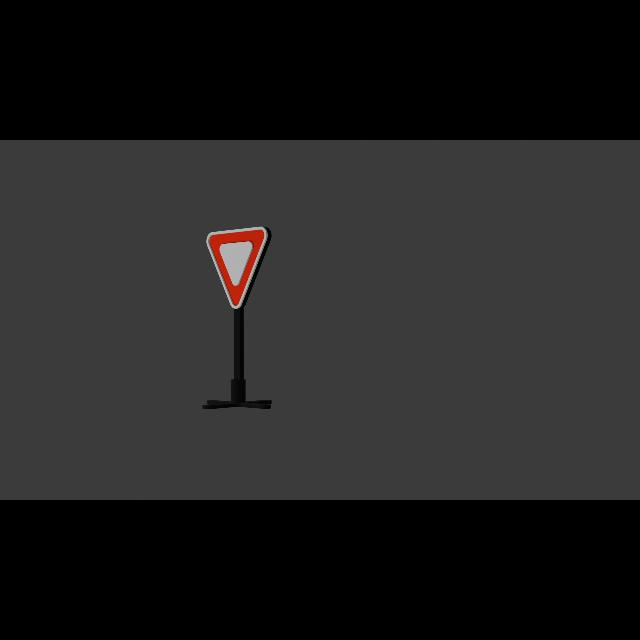sign_yield: (207, 227, 270, 310)
